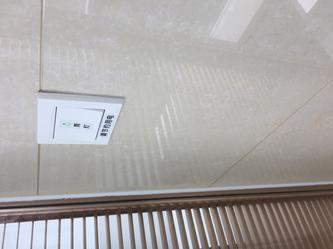switch: (52, 103, 106, 142)
